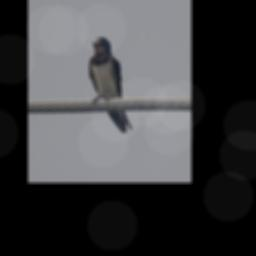Swallow: (89, 37, 133, 133)
